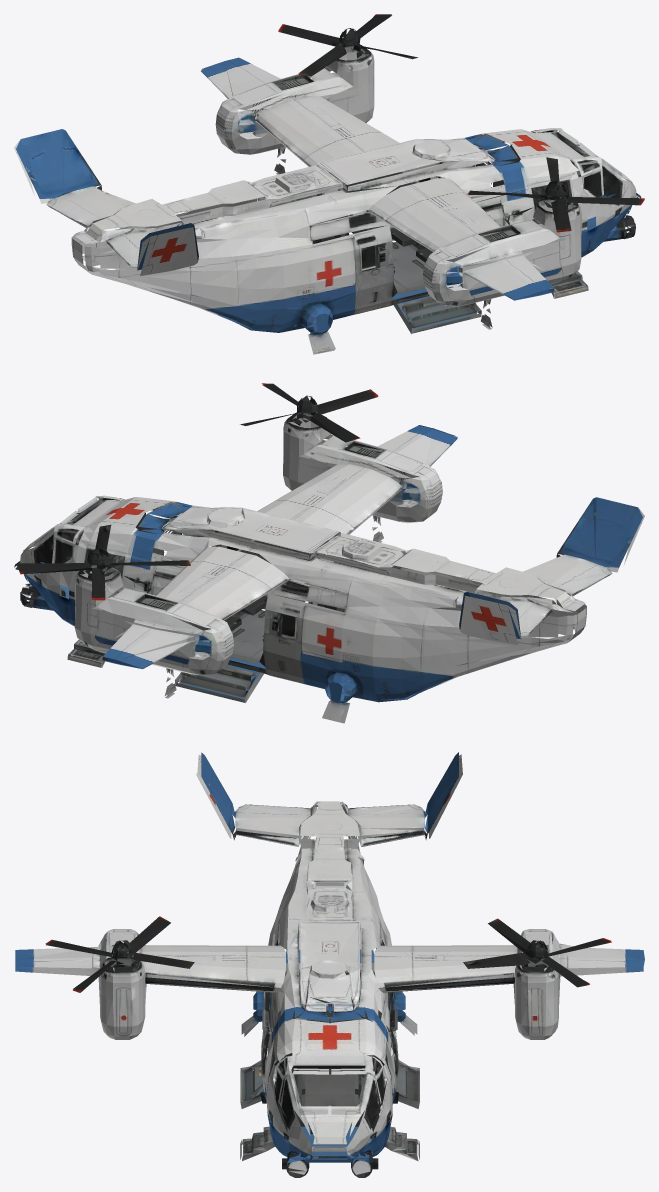
The model's file is lifter_LOD1.glb.
3 views of the same model, one above another, from view 1: azimuth 30°, elevation 25°; view 2: azimuth 150°, elevation 25°; view 3: azimuth 270°, elevation 25° (orthographic).
Visible parts, largest first — view 1: lifter_LOD1; view 2: lifter_LOD1; view 3: lifter_LOD1.
Boxes of the visible parts, x1=… form: lifter_LOD1: x1=14, y1=14, x2=644, y2=354; lifter_LOD1: x1=14, y1=383, x2=644, y2=723; lifter_LOD1: x1=15, y1=752, x2=644, y2=1177.
Size of the model in its own units: 0.9666 by 0.3072 by 0.949.
Materials: 1 (1 with a texture image).
